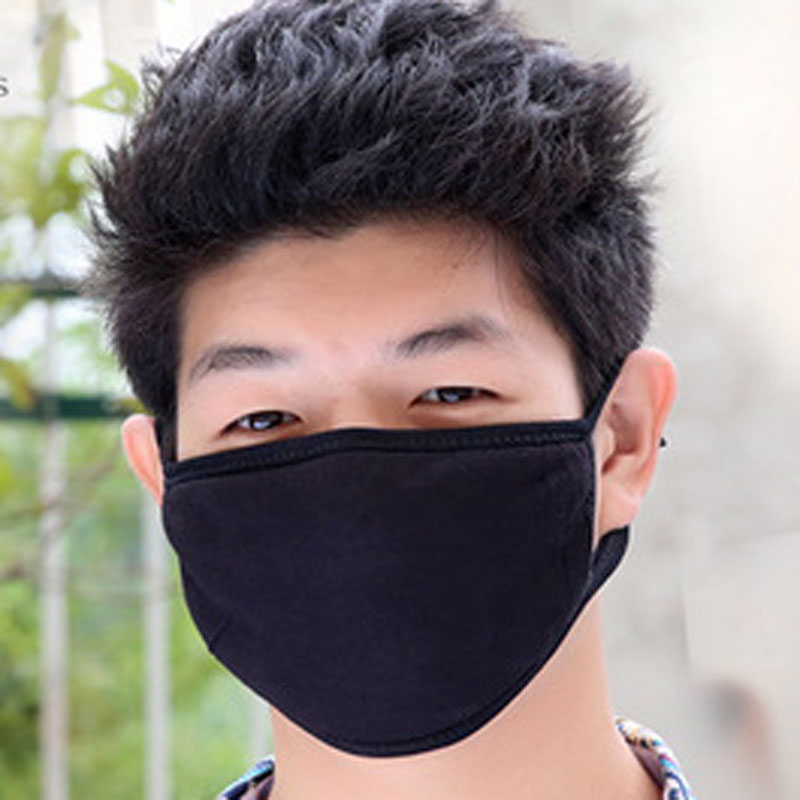face_mask: (172, 220, 578, 720)
